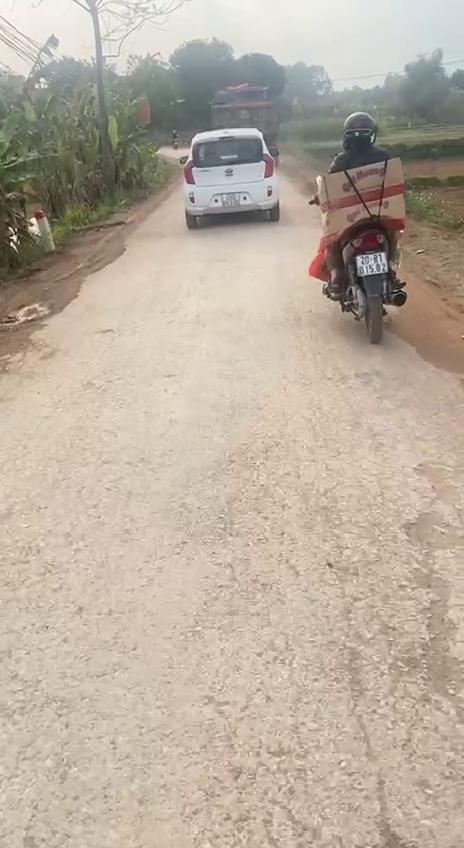pothole: (386, 455, 464, 708)
